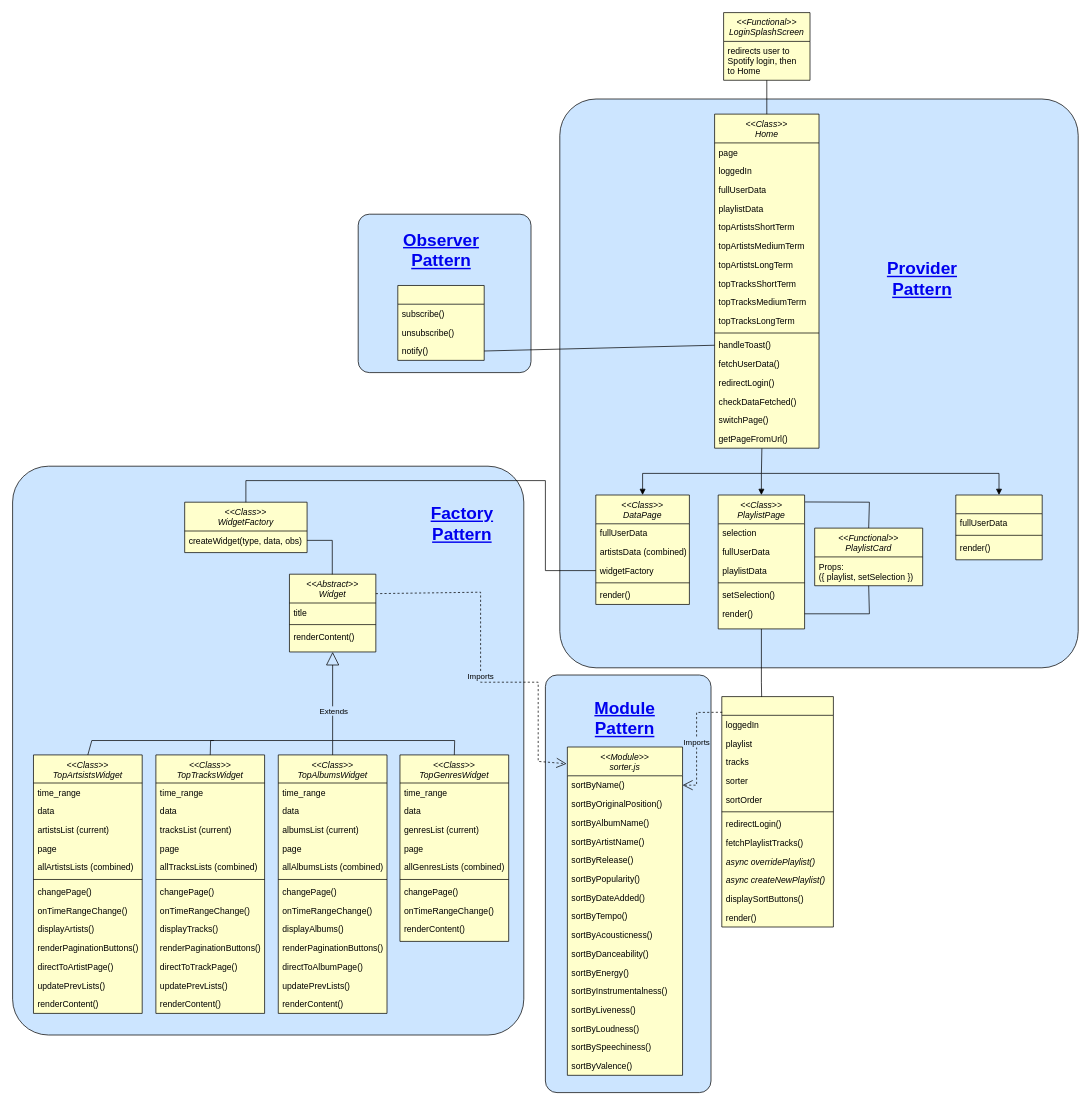
This 1091x1105 diagram has some shape labels left out. Here are the shapes that lost their labels. From the top down, the box of each, then its label:
(397, 285, 484, 360): Obervable
(955, 494, 1042, 560): SettingsPage
(721, 696, 833, 927): PlaylistEditor
